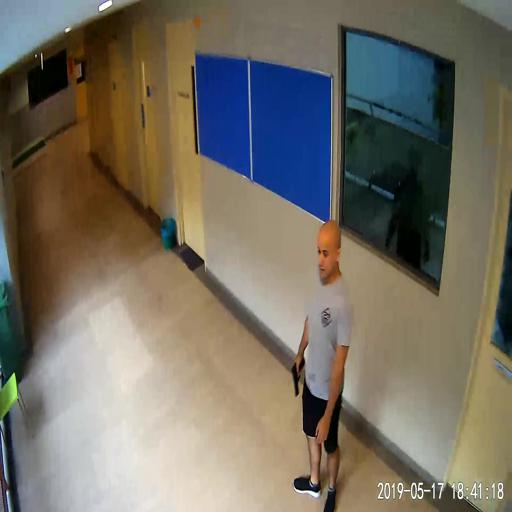pistol: (290, 356, 304, 396)
